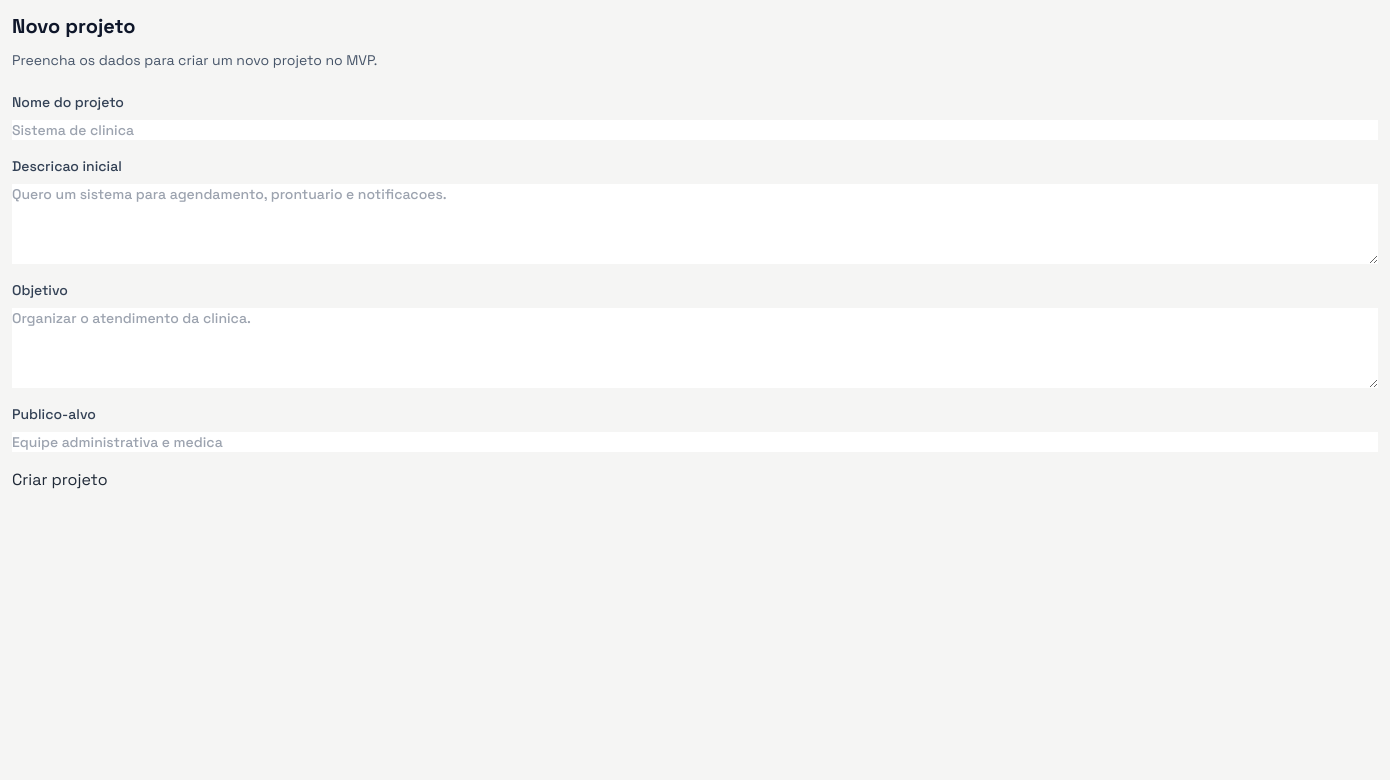
Test: CreateProjectPage › valida campos obrigatorios
Click the button "Criar projeto" at {"x": 60, "y": 480}, box top-left (12, 468), bottom-right (108, 492)
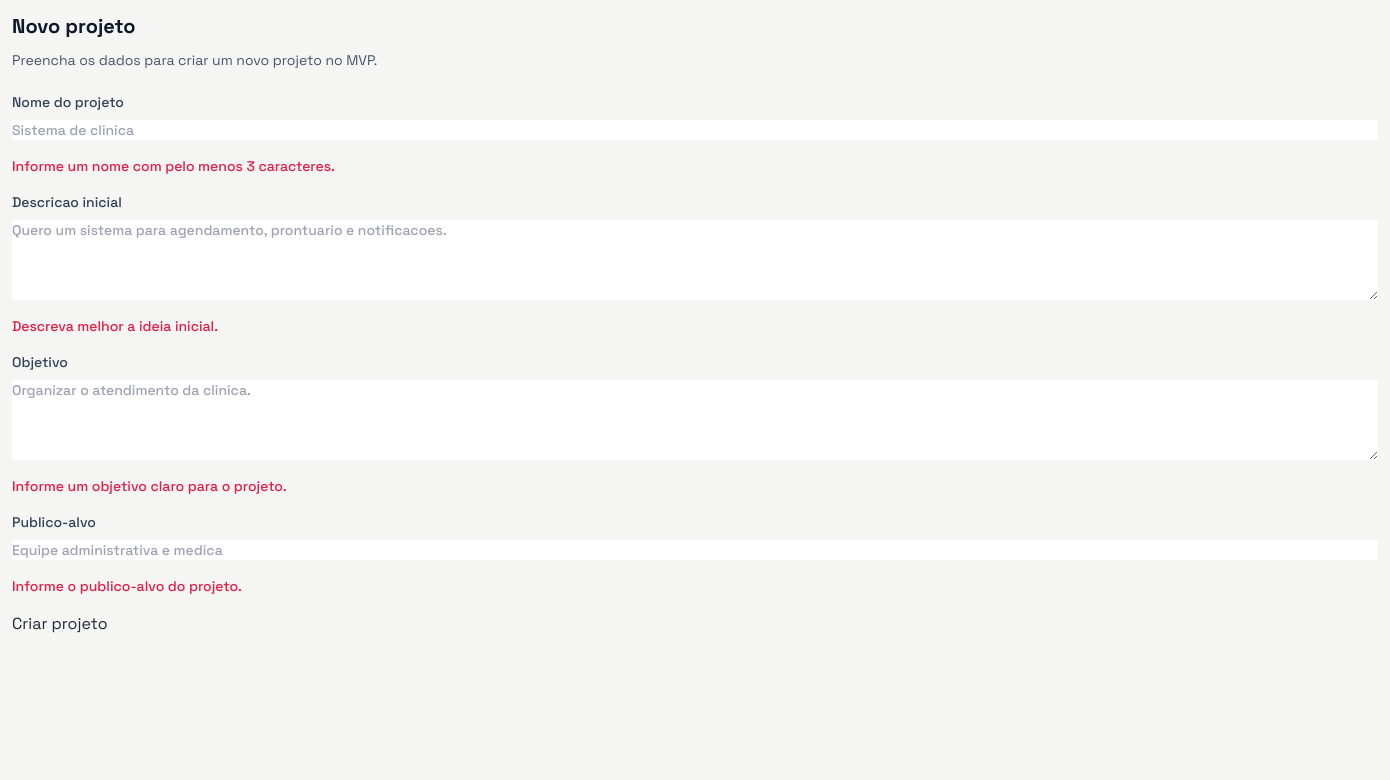
Now the text "Informe um nome com pelo menos 3 caracteres." is shown, box top-left (12, 157), bottom-right (335, 175)
Now the text "Descreva melhor a ideia inicial." is shown, box top-left (12, 317), bottom-right (218, 335)
Now the text "Informe um objetivo claro para o projeto." is shown, box top-left (12, 477), bottom-right (287, 495)
